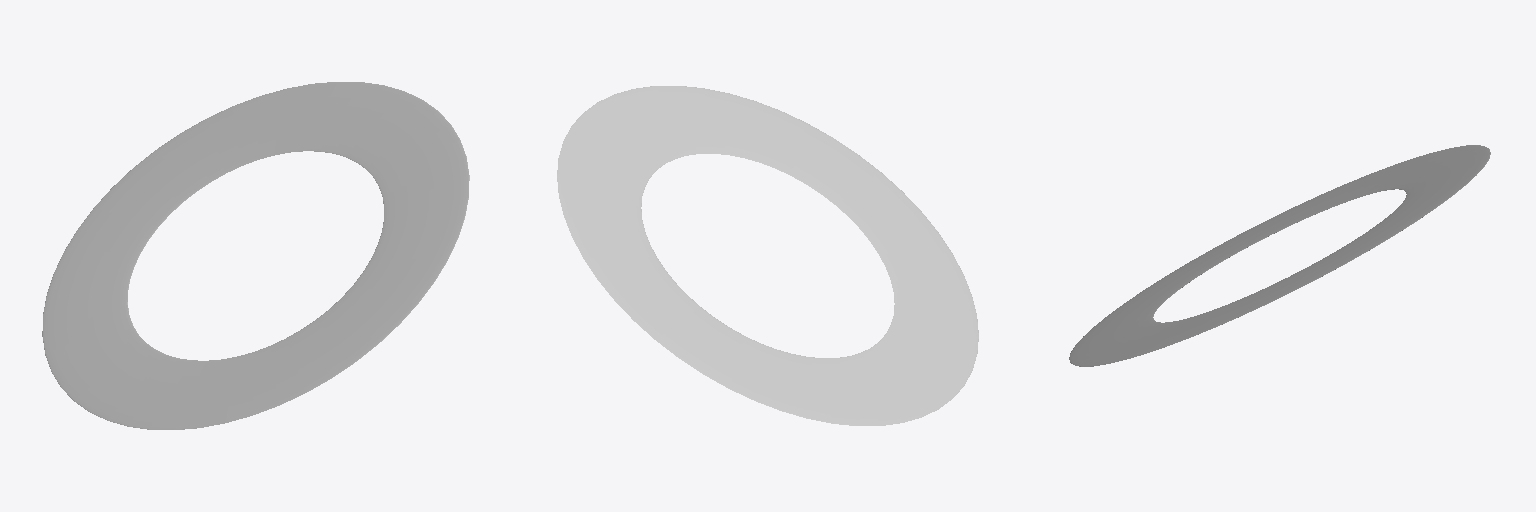
Rendered from Saturn-Rings.obj.
The picture shows the model from 3 angles: view 1: azimuth 30°, elevation 25°; view 2: azimuth 150°, elevation 25°; view 3: azimuth 330°, elevation 25°; orthographic projection.
Parts seen in each view (by area): view 1: pTorus1 group1; view 2: pTorus1 group1; view 3: pTorus1 group1.
Boxes of the visible parts, x1=… form: pTorus1 group1: x1=42, y1=82, x2=469, y2=429; pTorus1 group1: x1=557, y1=86, x2=978, y2=425; pTorus1 group1: x1=1069, y1=145, x2=1490, y2=366.
Size of the model in its own units: 9.5 by 5.47 by 10.96.